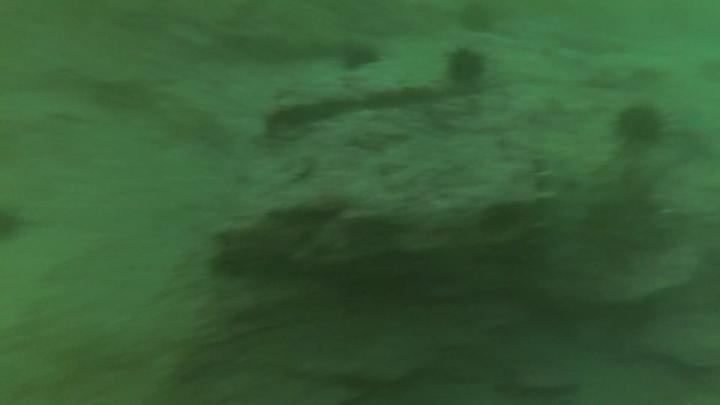echinus: (613, 102, 669, 148), (443, 45, 488, 89), (337, 39, 383, 74), (455, 2, 498, 37), (1, 202, 28, 247)
holothurian: (528, 138, 597, 266)
